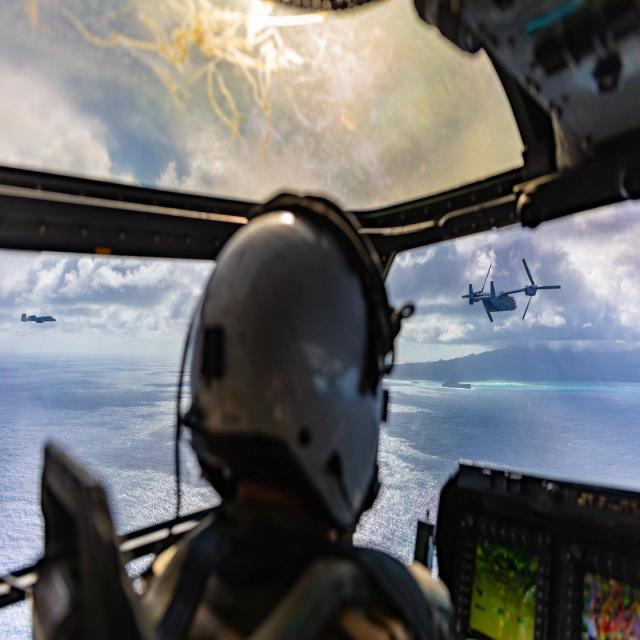MIL_Plane: (461, 257, 561, 323), (21, 313, 56, 324)
